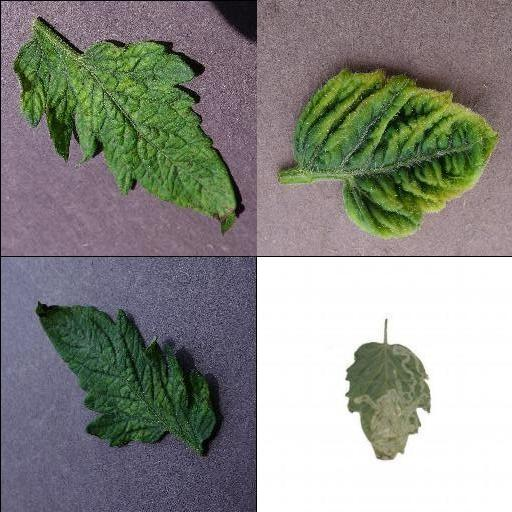Leaf Miner: (343, 341, 433, 461)
Mosaic Virus: (12, 36, 238, 236), (34, 300, 214, 448)
Yellow Leaf Curl Virus: (291, 65, 501, 243)
